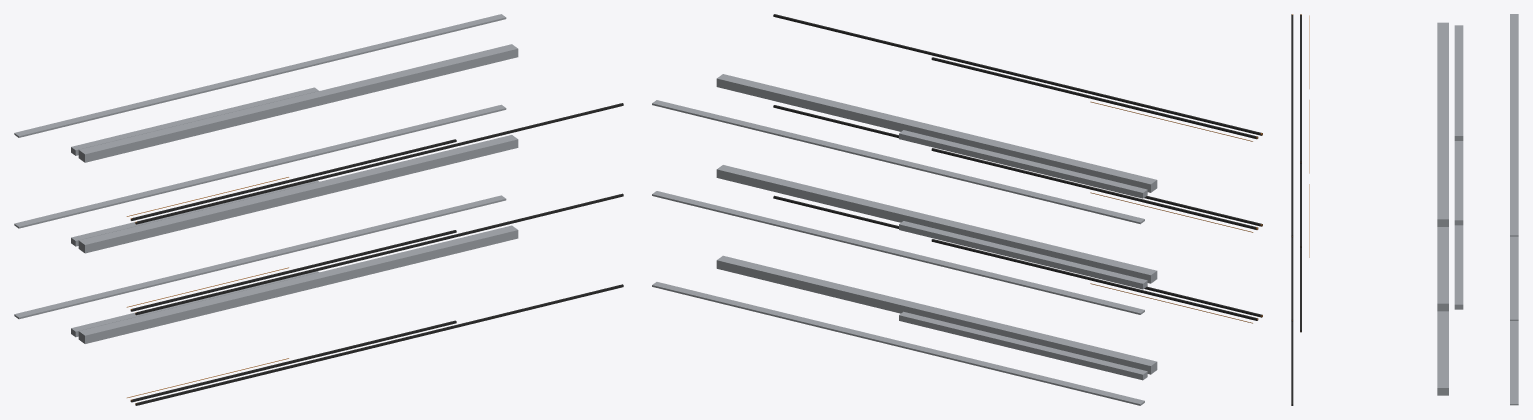
File: Ejemplo_MEP.dae
3 views of the same model, side by side, from view 1: azimuth 30°, elevation 25°; view 2: azimuth 150°, elevation 25°; view 3: azimuth 270°, elevation 25° (orthographic). The views are drawn at different scales.
Visible parts, largest first — view 1: 520054, 520024, 520084, 520060, 520090, 520030, 520018, 520048, 520078, 520087, 520051, 520021 (+3 smaller); view 2: 520024, 520084, 520054, 520030, 520060, 520090, 520057, 520087, 520027, 520078, 520021, 520051 (+3 smaller); view 3: 520084, 520090, 520087, 520024, 520054, 520027, 520057, 520030, 520060, 520078, 520081, 520048 (+1 smaller).
Boxes of the visible parts, x1,y1,x2,y2 form: 520054: (78, 135, 518, 253); 520024: (78, 225, 518, 343); 520084: (78, 44, 518, 162); 520060: (14, 104, 506, 228); 520090: (14, 14, 506, 137); 520030: (14, 195, 506, 319); 520018: (135, 284, 623, 405); 520048: (135, 193, 623, 315); 520078: (135, 103, 623, 224); 520087: (71, 87, 318, 155); 520051: (130, 230, 456, 311); 520021: (130, 320, 456, 402); 520024: (716, 255, 1157, 374); 520084: (716, 74, 1157, 192); 520054: (716, 165, 1157, 283); 520030: (652, 282, 1144, 405); 520060: (652, 191, 1144, 314); 520090: (652, 100, 1144, 224); 520057: (899, 221, 1147, 289); 520087: (899, 130, 1147, 198); 520027: (899, 311, 1147, 380); 520078: (773, 14, 1262, 135); 520021: (931, 239, 1258, 320); 520051: (931, 148, 1258, 229); 520084: (1437, 22, 1448, 226); 520090: (1510, 14, 1518, 236); 520087: (1454, 25, 1463, 140); 520024: (1437, 311, 1448, 395); 520054: (1437, 227, 1448, 311); 520027: (1454, 225, 1463, 309); 520057: (1454, 141, 1463, 225); 520030: (1510, 321, 1518, 405); 520060: (1510, 236, 1518, 320); 520078: (1291, 14, 1293, 237); 520081: (1300, 14, 1301, 163); 520048: (1291, 237, 1293, 321).
Size of the model in its own units: 18 by 7.82 by 6.7.
